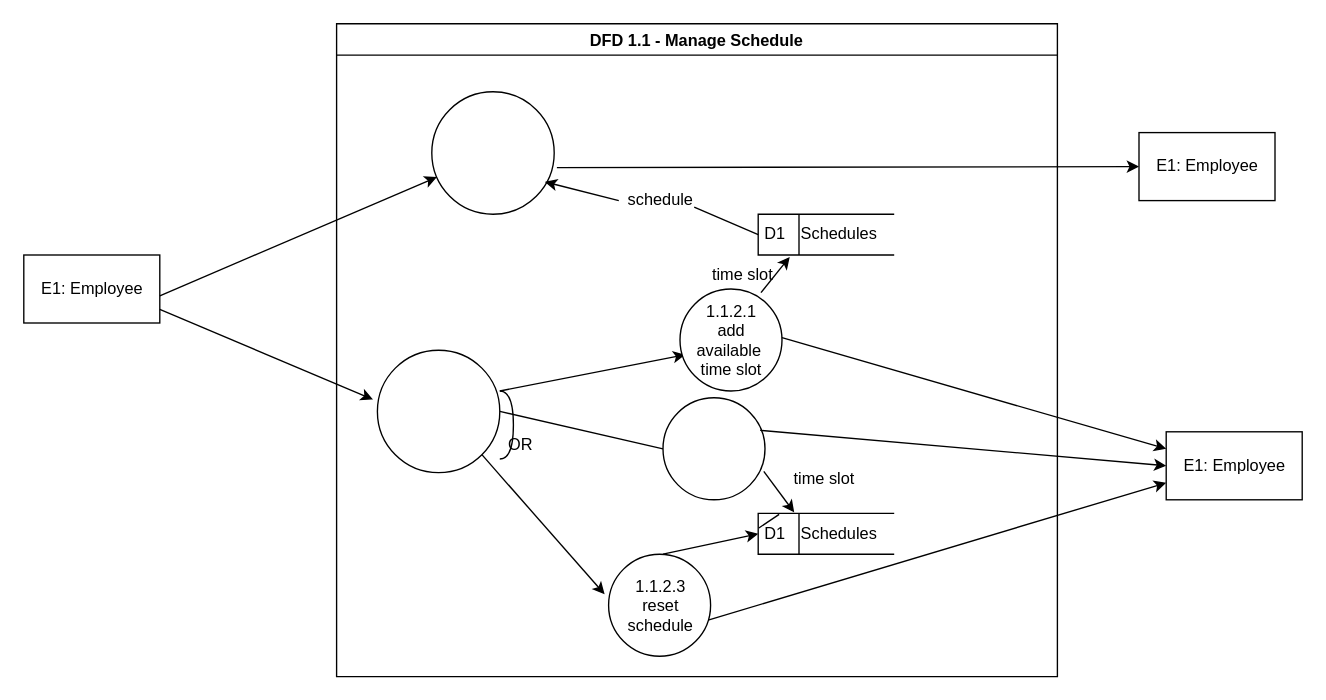
Some shapes in this 1326 by 700 pixel diagram are drawn without their labels. Here are the shapes that lost their labels. From the top down, the centre of each, then its label:
At [492,152]: "1.1.1 view availability schedule".
At [438,411]: "1.1.2 change availability schedule".
At [713,448]: "1.1.2.2 remove available time slot".
